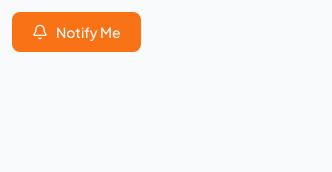
it: saving › records the hash once and shows the saved state
Click the button "Notify Me": (76, 32) [12,12,140,52]
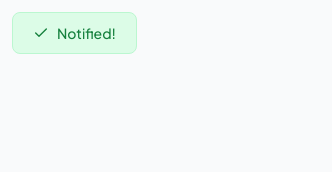
Now the text "Notified!" is shown, box [12,12,137,54]
